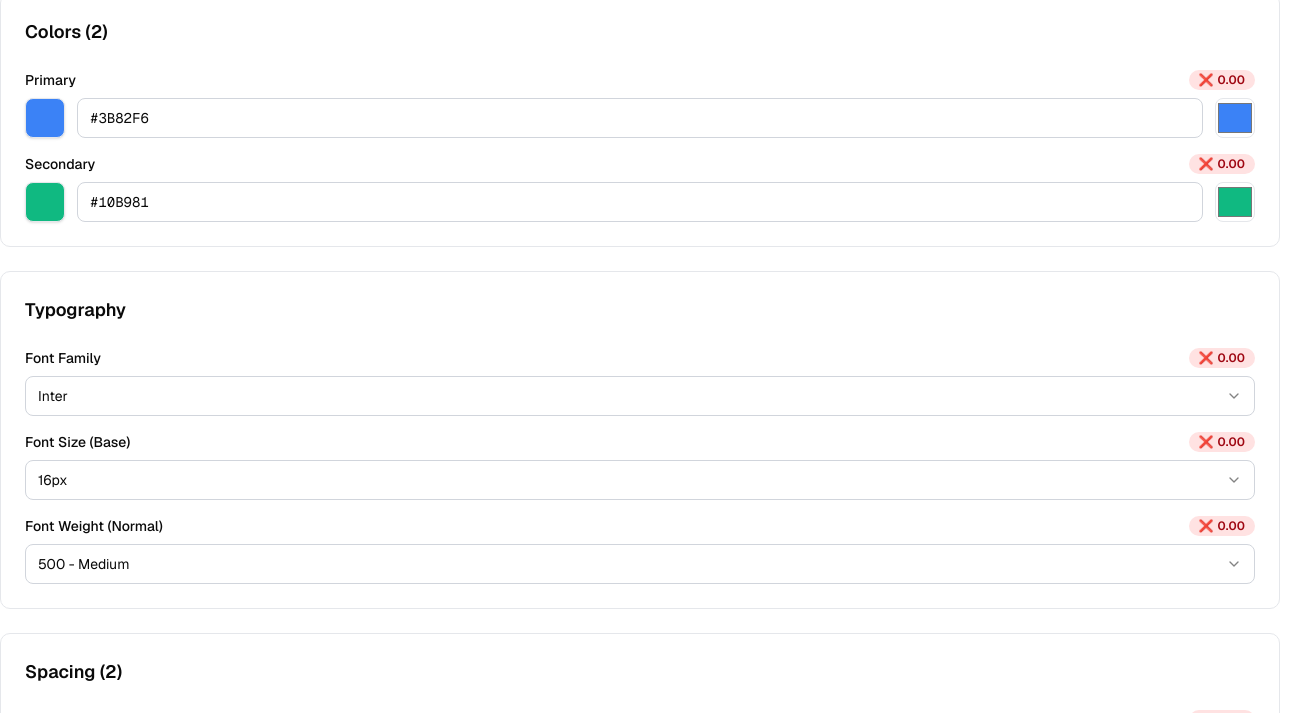
TokenEditor › Save Functionality › disables buttons after save
Replace the text in the field labelled "Primary" with "#FF5733" at (640, 118), box [77,98,1203,138]
(page scrolled)
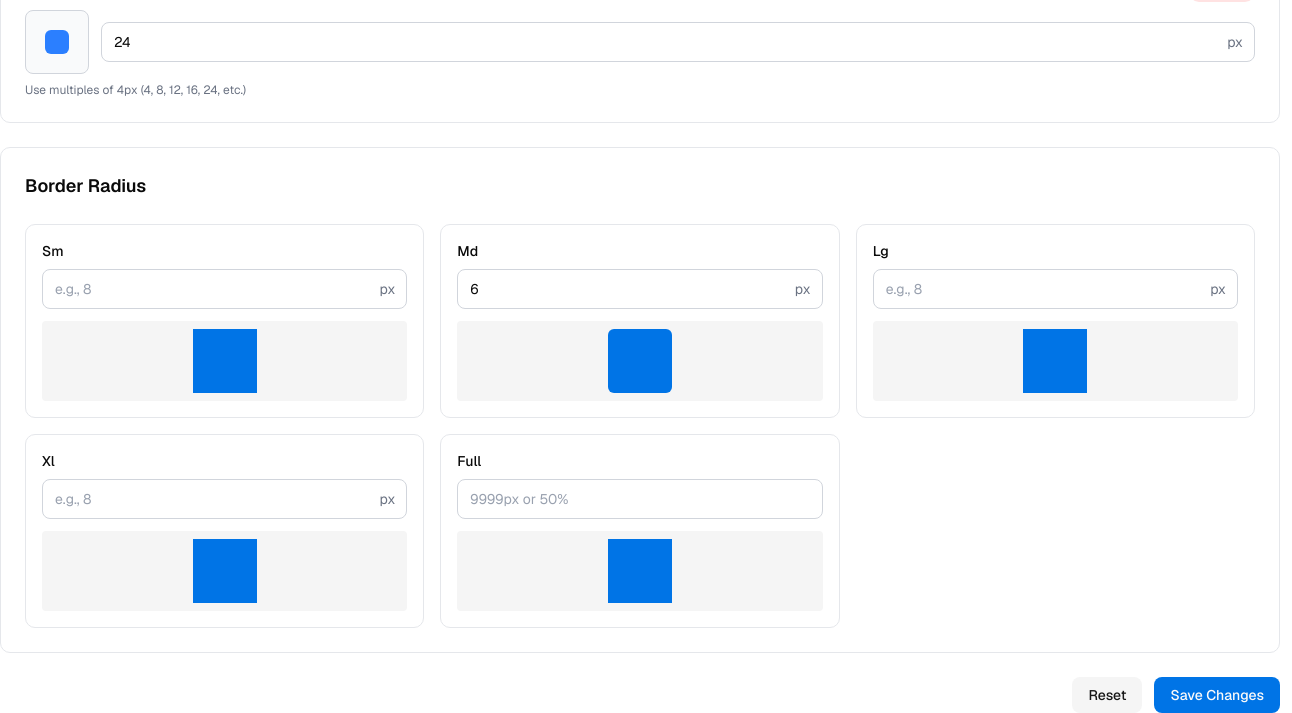
Note: Click save
Click the button "Save Changes" at (1217, 695), box [1154,677,1280,712]
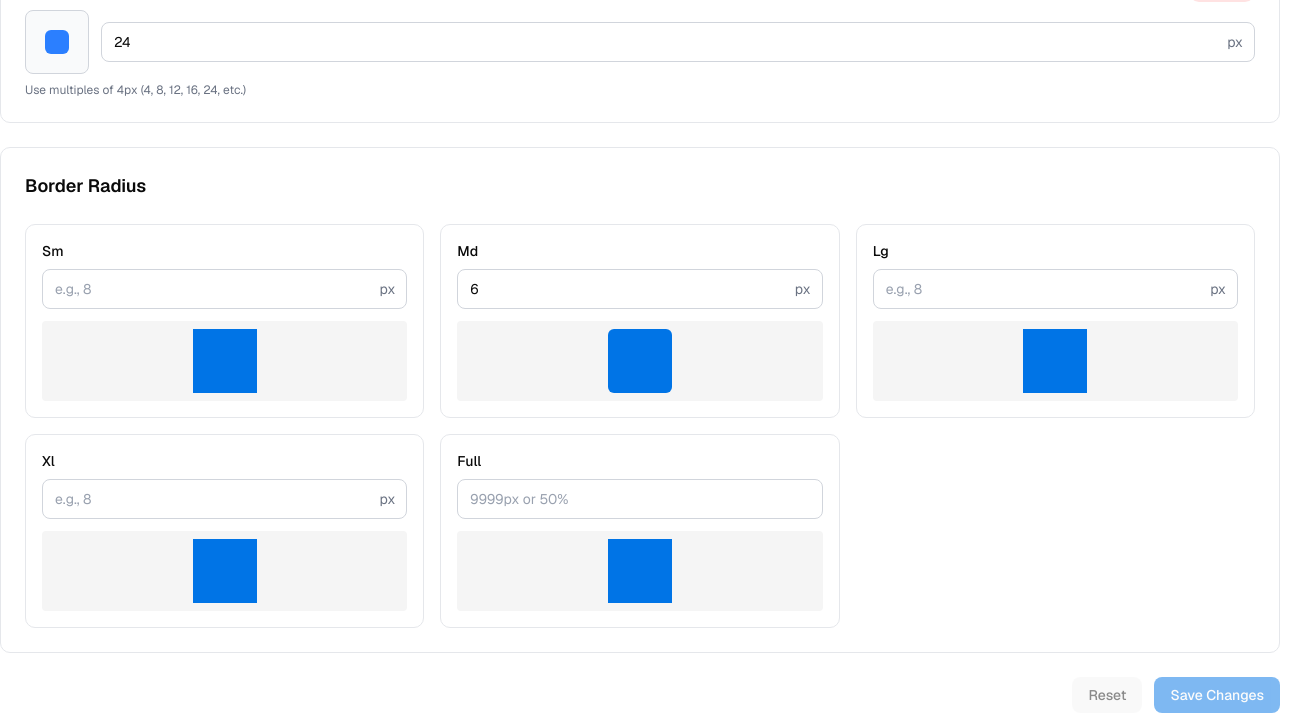
expect the button "Save Changes" is disabled: met, box [1154,677,1280,712]
expect the button "Reset" is disabled: met, box [1072,677,1142,712]
